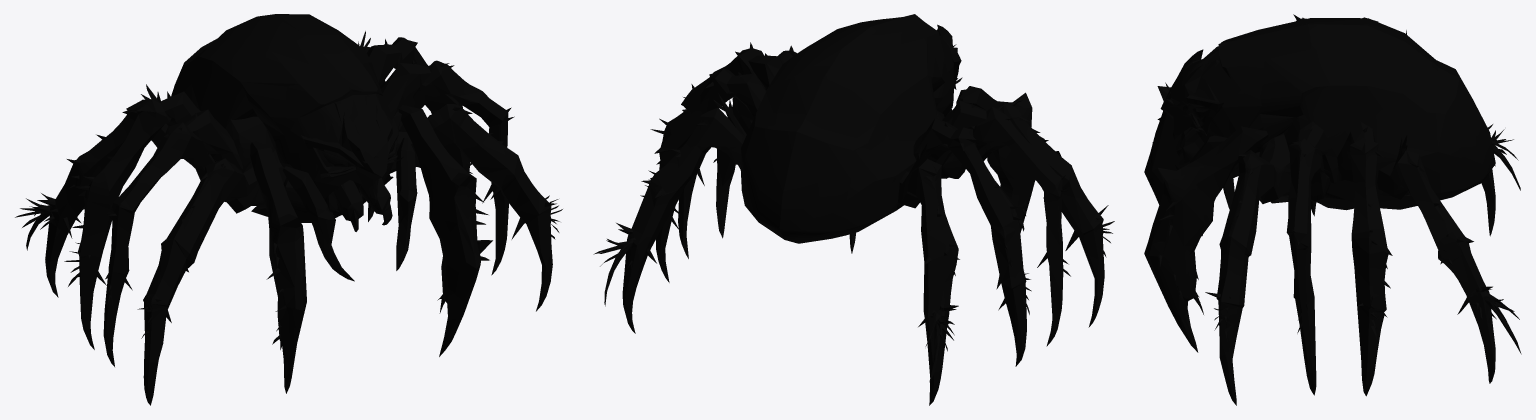
The model's file is mon_gloomspider.glb.
3 views of the same model, side by side, from view 1: azimuth 30°, elevation 25°; view 2: azimuth 150°, elevation 25°; view 3: azimuth 270°, elevation 25° (orthographic). The views are drawn at different scales.
Size of the model in its own units: 1.89 by 1.28 by 1.5.
1 material, 1 textured.
